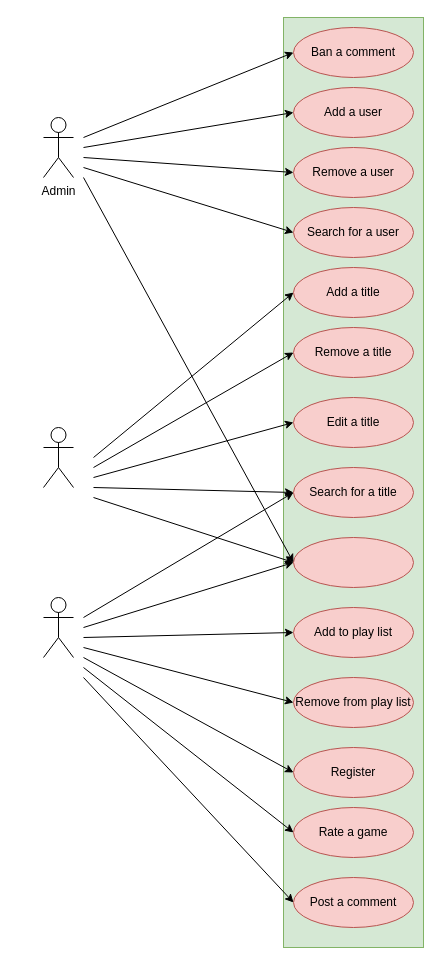
Image size: 441x965. Some labels were removed from this diagram. Here are the shapes that lost their labels. From the top down, the box of each, then its label:
(42, 426, 74, 488): Content creator
(292, 536, 414, 588): Log in
(42, 596, 74, 658): User
